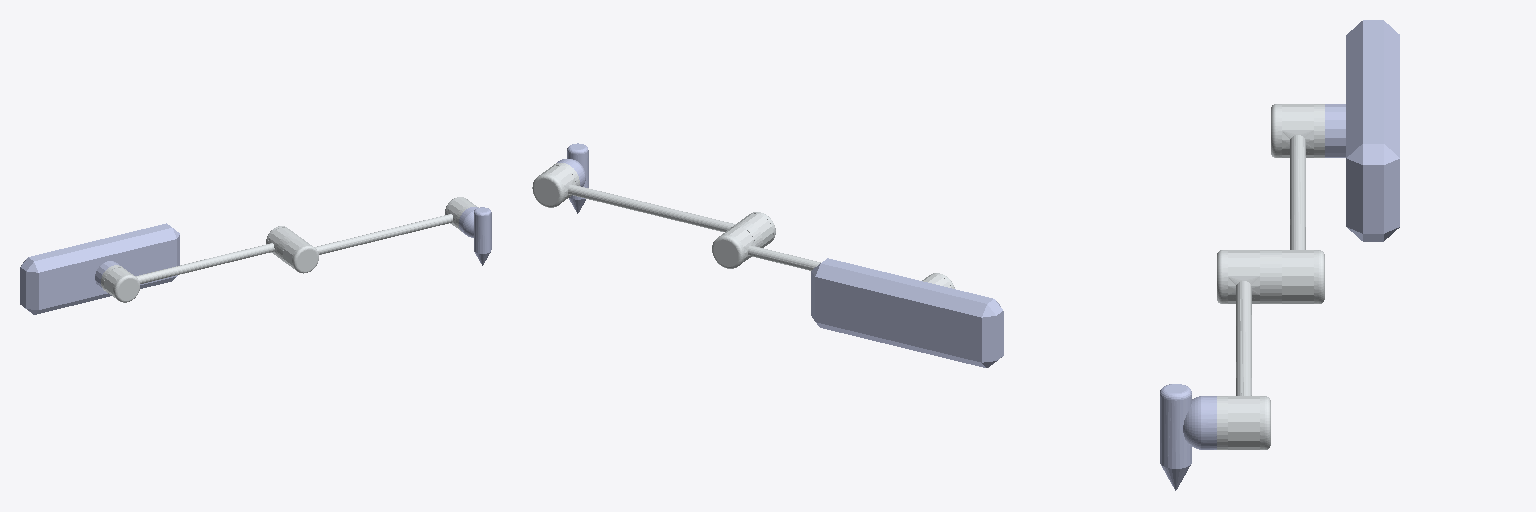
The robot description file, URDF, robot "thorvald_arm":
<?xml version="1.0" encoding="utf-8"?>
<!-- This URDF was automatically created by SolidWorks to URDF Exporter! Originally created by [author] ([email redacted]) 
     Commit Version: 1.6.0-1-g15f4949  Build Version: 1.6.7594.29634
     For more information, please see http://wiki.ros.org/sw_urdf_exporter
     
     Generated by SW2URDF. Then manually added Gazebo transmissions. - [author]
      -->


<robot
  name="thorvald_arm">

  <gazebo>
    <plugin name="gazebo_ros_control" filename="libgazebo_ros_control.so">
    <robotNamespace>thorvald_arm</robotNamespace>
    </plugin>
  </gazebo>



  <!-- <link name="/world"/>

  <joint name="fixed" type="fixed">
    <parent link="world"/>
    <child link="base_link"/>
    <origin
      xyz="0 0 1"
      rpy="1.5708 0 0" />
  </joint> -->


  <link name="/thorvald_001/base_link"/>
  <joint name="arm_to_thorvald" type="fixed">
    <parent link="/thorvald_001/base_link"/>
    <child link="base_link"/>
    <origin
      xyz="0 0 3"
      rpy="1.5708 0 0" />
  </joint>


  <link name="base_link">
    <inertial>
      <origin
        xyz="0 0.026015 0"
        rpy="0 0 0" />
      <mass
        value="1.3548" />
      <inertia
        ixx="0.0012241"
        ixy="0"
        ixz="0"
        iyy="0.010139"
        iyz="0"
        izz="0.0094931" />
    </inertial>
    <visual>
      <origin
        xyz="0 0 0"
        rpy="0 0 0" />
      <geometry>
        <mesh
          filename="package://thorvald_arm/meshes/base_link.STL" />
      </geometry>
      <material
        name="">
        <color
          rgba="0.79216 0.81961 0.93333 1" />
      </material>
    </visual>
    <collision>
      <origin
        xyz="0 0 0"
        rpy="0 0 0" />
      <geometry>
        <mesh
          filename="package://thorvald_arm/meshes/base_link.STL" />
      </geometry>
    </collision>
  </link>

  <link name="link1">
    <inertial>
      <origin
        xyz="0.16 0.095 0"
        rpy="0 0 0" />
      <mass
        value="0.65" />
      <inertia
        ixx="0.00011077"
        ixy="0"
        ixz="0"
        iyy="0.0090954"
        iyz="0"
        izz="0.0090393" />
    </inertial>
    <visual>
      <origin
        xyz="0 0 0"
        rpy="0 0 0" />
      <geometry>
        <mesh
          filename="package://thorvald_arm/meshes/link1.STL" />
      </geometry>
      <material
        name="">
        <color
          rgba="0.89804 0.91765 0.92941 1" />
      </material>
    </visual>
    <collision>
      <origin
        xyz="0 0 0"
        rpy="0 0 0" />
      <geometry>
        <mesh
          filename="package://thorvald_arm/meshes/link1.STL" />
      </geometry>
    </collision>
  </link>

  <joint name="joint1"
    type="continuous">
    <origin
      xyz="0 0 0"
      rpy="1.5708 0 0" />
    <parent
      link="base_link" />
    <child
      link="link1" />
    <axis
      xyz="0 1 0" />

    <dynamics damping="1.5"/>
    <limit effort="30" velocity="1.0" />
  </joint>

  <link name="link2">
    <inertial>
      <origin
        xyz="-0.16 -0.025 0"
        rpy="0 0 0" />
      <mass
        value="0.65" />
      <inertia
        ixx="0.00011077"
        ixy="0"
        ixz="0"
        iyy="0.0090954"
        iyz="0"
        izz="0.0090393" />
    </inertial>
    <visual>
      <origin
        xyz="0 0 0"
        rpy="0 0 0" />
      <geometry>
        <mesh
          filename="package://thorvald_arm/meshes/link2.STL" />
      </geometry>
      <material
        name="">
        <color
          rgba="0.89804 0.91765 0.92941 1" />
      </material>
    </visual>
    <collision>
      <origin
        xyz="0 0 0"
        rpy="0 0 0" />
      <geometry>
        <mesh
          filename="package://thorvald_arm/meshes/link2.STL" />
      </geometry>
    </collision>
  </link>

  <joint name="joint2"
    type="continuous">
    <origin
      xyz="0.32 0.12 0"
      rpy="0 0 3.14159265358979" />
    <parent
      link="link1" />
    <child
      link="link2" />
    <axis
      xyz="0 1 0" />
    <dynamics damping="0.7"/>
    <limit effort="30" velocity="1.0" />
  </joint>

  <link name="nozzle">
    <inertial>
      <origin
        xyz="0 -0.004541 0.026567"
        rpy="0 0 0" />
      <mass
        value="0.1" />
      <inertia
        ixx="0.0001"
        ixy="0"
        ixz="0"
        iyy="0.005"
        iyz="0"
        izz="0.01" />
    </inertial>
    <visual>
      <origin
        xyz="0 0 0"
        rpy="0 0 0" />
      <geometry>
        <mesh
          filename="package://thorvald_arm/meshes/nozzle.STL" />
      </geometry>
      <material
        name="">
        <color
          rgba="0.79216 0.81961 0.93333 1" />
      </material>
    </visual>
    <collision>
      <origin
        xyz="0 0 0"
        rpy="0 0 0" />
      <geometry>
        <mesh
          filename="package://thorvald_arm/meshes/nozzle.STL" />
      </geometry>
    </collision>
  </link>

  <joint name="nozzle_joint"
    type="continuous">
    <origin
      xyz="-0.32 -0.05 0"
      rpy="-1.5707963267949 0 3.14159265358979" />
    <parent
      link="link2" />
    <child
      link="nozzle" />
    <axis
      xyz="0 0 1" />
    <dynamics damping="0.7"/>
    <limit effort="30" velocity="1.0"/>
  </joint>

  <!-- Transmissions -->
 
  <transmission name="tran1">
    <type>transmission_interface/SimpleTransmission</type>
    <joint name="joint1">
      <hardwareInterface>EffortJointInterface</hardwareInterface>
    </joint>
    <actuator name="motor1">
      <hardwareInterface>EffortJointInterface</hardwareInterface>
      <mechanicalReduction>1</mechanicalReduction>
    </actuator>
  </transmission>
  <transmission name="tran2">
    <type>transmission_interface/SimpleTransmission</type>
    <joint name="joint2">
      <hardwareInterface>EffortJointInterface</hardwareInterface>
    </joint>
    <actuator name="motor2">
      <hardwareInterface>EffortJointInterface</hardwareInterface>
      <mechanicalReduction>1</mechanicalReduction>
    </actuator>
  </transmission>
  <transmission name="tran3">
    <type>transmission_interface/SimpleTransmission</type>
    <joint name="nozzle_joint">
      <hardwareInterface>EffortJointInterface</hardwareInterface>
    </joint>
    <actuator name="motor3">
      <hardwareInterface>EffortJointInterface</hardwareInterface>
      <mechanicalReduction>1</mechanicalReduction>
    </actuator>
  </transmission>

</robot>

--- Render facts (derived) ---
Views: 3 orthographic renders of the robot side by side, from view 1: azimuth 30°, elevation 25°; view 2: azimuth 150°, elevation 25°; view 3: azimuth 270°, elevation 25°.
Model thorvald_arm with 5 links and 4 joints (3 continuous, 1 fixed), rooted at /thorvald_001/base_link, posed every joint at zero.
Visible links, largest first — view 1: base_link, link2, link1, nozzle; view 2: base_link, link2, link1, nozzle; view 3: base_link, link1, link2, nozzle.
Link boxes in pixels (bbox=[...]): base_link: bbox=[20, 223, 179, 314]; link2: bbox=[280, 197, 478, 273]; link1: bbox=[101, 226, 297, 302]; nozzle: bbox=[459, 207, 491, 265]; base_link: bbox=[811, 258, 1003, 367]; link2: bbox=[532, 163, 775, 247]; link1: bbox=[712, 224, 954, 288]; nozzle: bbox=[557, 143, 588, 213]; base_link: bbox=[1325, 20, 1399, 241]; link1: bbox=[1271, 104, 1324, 303]; link2: bbox=[1217, 250, 1270, 449]; nozzle: bbox=[1160, 384, 1216, 490].
Bounding box of the posed robot: 0.815 × 0.2229 × 0.12 m (x, y, z).
4 mesh visuals loaded from 4 distinct referenced files (4 binary STL).
